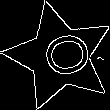O_W: (29, 29, 90, 84)
